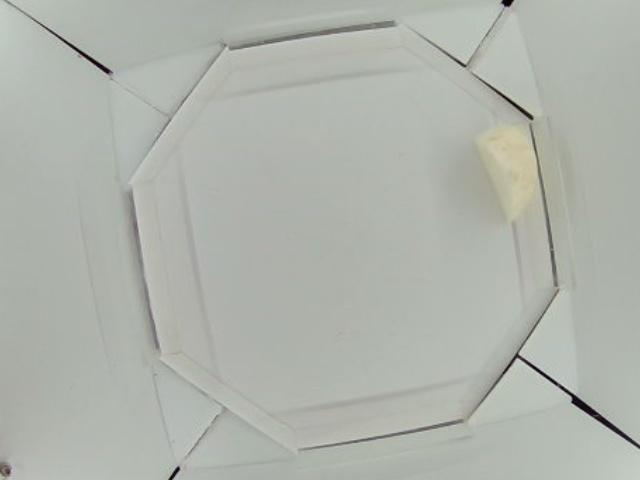Mooli: (473, 125, 538, 222)
